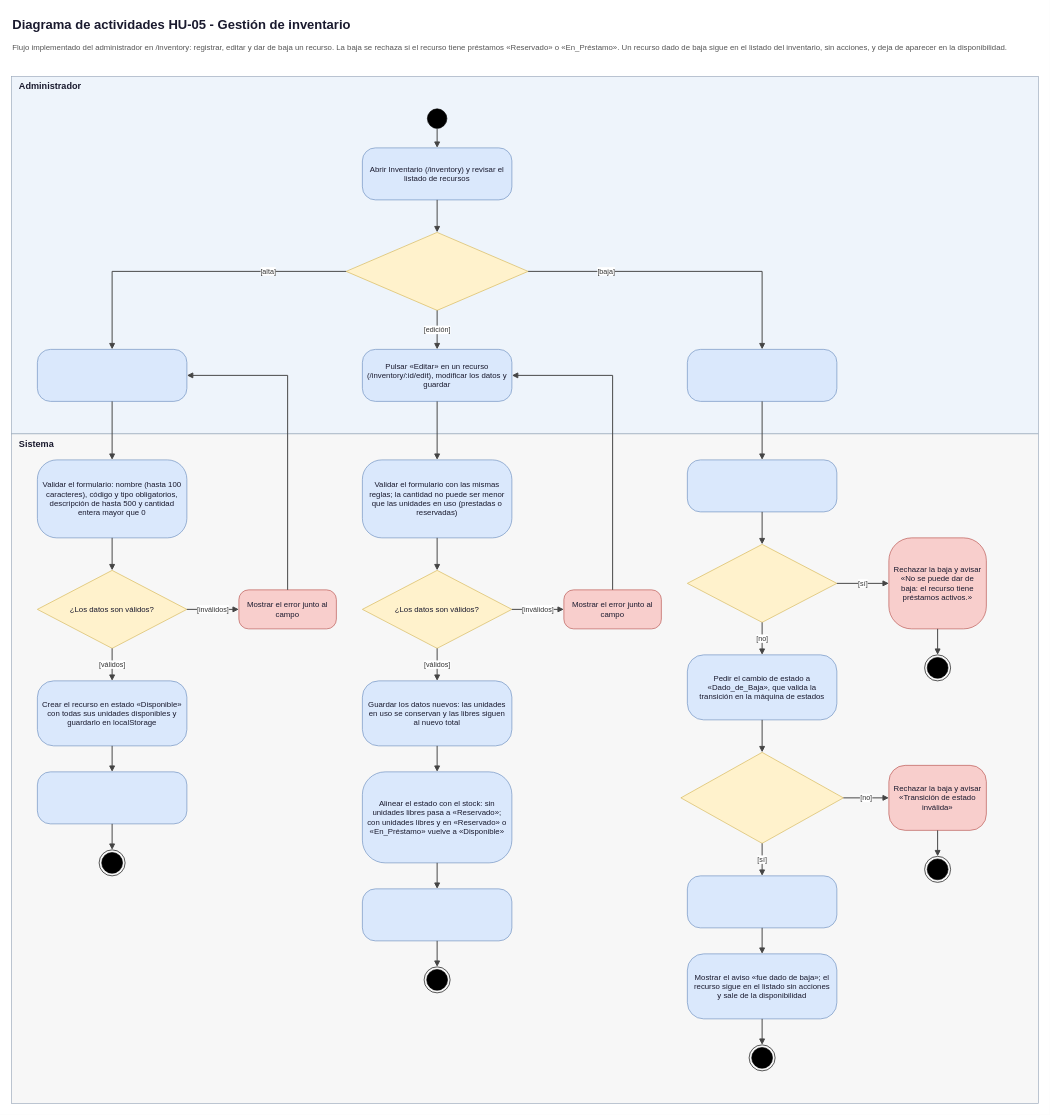
This 1050x1115 diagram has some shape labels left out. The shapes that lost their labels are listed below. From the top down, each one's centre as x and y in pixels, then its label:
pixel 436 271: ¿Qué operación realiza?
pixel 112 375: Pulsar «Nuevo recurso» (/inventory/new), completar el formulario y guardar
pixel 762 375: Pulsar «Dar de baja» en un recurso y confirmar en el diálogo
pixel 762 485: Buscar préstamos del recurso en estado «Reservado» o «En_Préstamo»
pixel 762 583: ¿Tiene préstamos activos?
pixel 112 797: Mostrar el aviso «Recurso creado» y volver al listado (/inventory)
pixel 761 797: ¿La transición de estado es válida?
pixel 437 914: Mostrar el aviso «Recurso actualizado» y volver al listado (/inventory)
pixel 762 901: Cambiar el estado a «Dado_de_Baja» y anotarlo en el historial de estados
